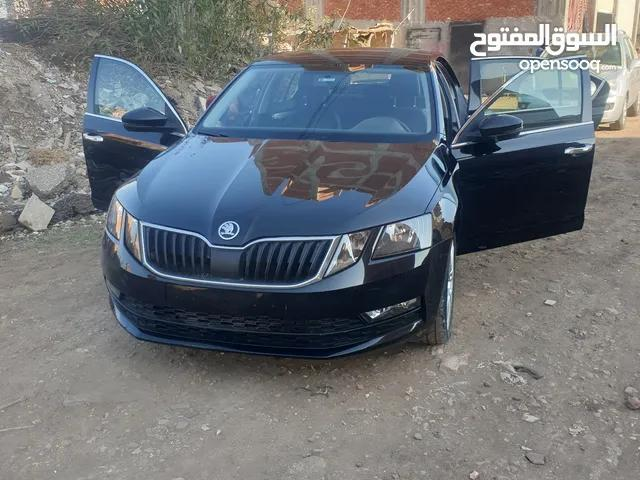skoda: (210, 211, 247, 248)
